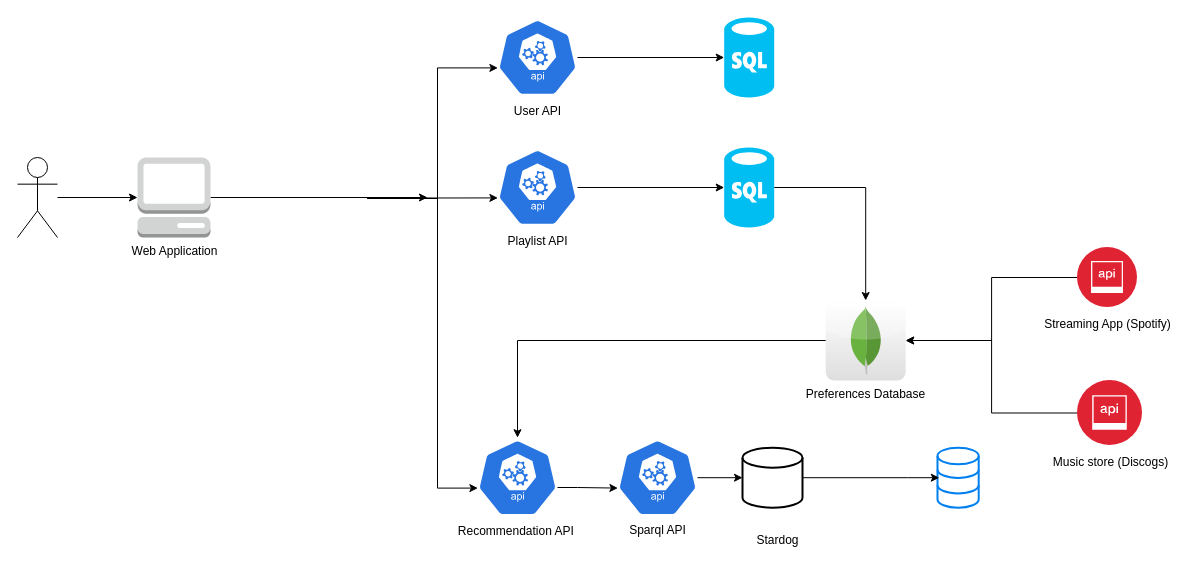
The diagram is 1188 pixels wide and 573 high, and some of its shapes have lost their labels. Here are the shapes that lost their labels. From the top down, the centre of each, then its label:
At point (749, 57): "User Databse".
At point (37, 197): "Actor".
At point (749, 187): "Playlist Database".
At point (957, 477): "Vinyl Datasource (Discog)".
